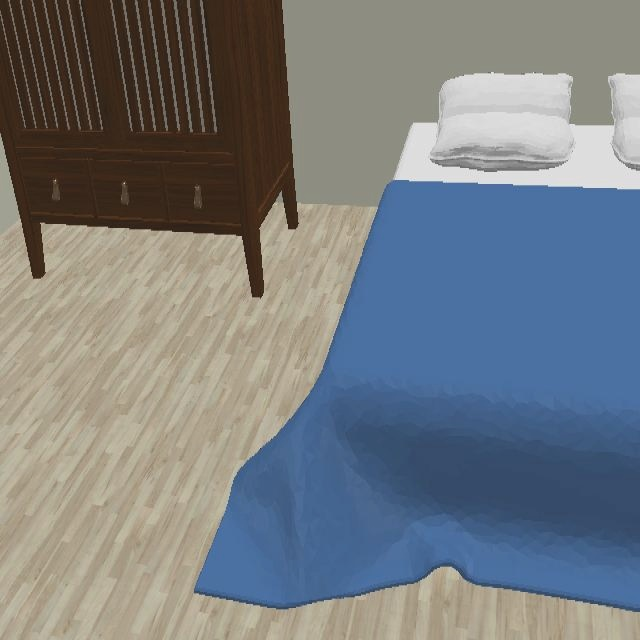bed: (195, 73, 640, 615)
pillow: (428, 73, 578, 177), (607, 73, 640, 172)
